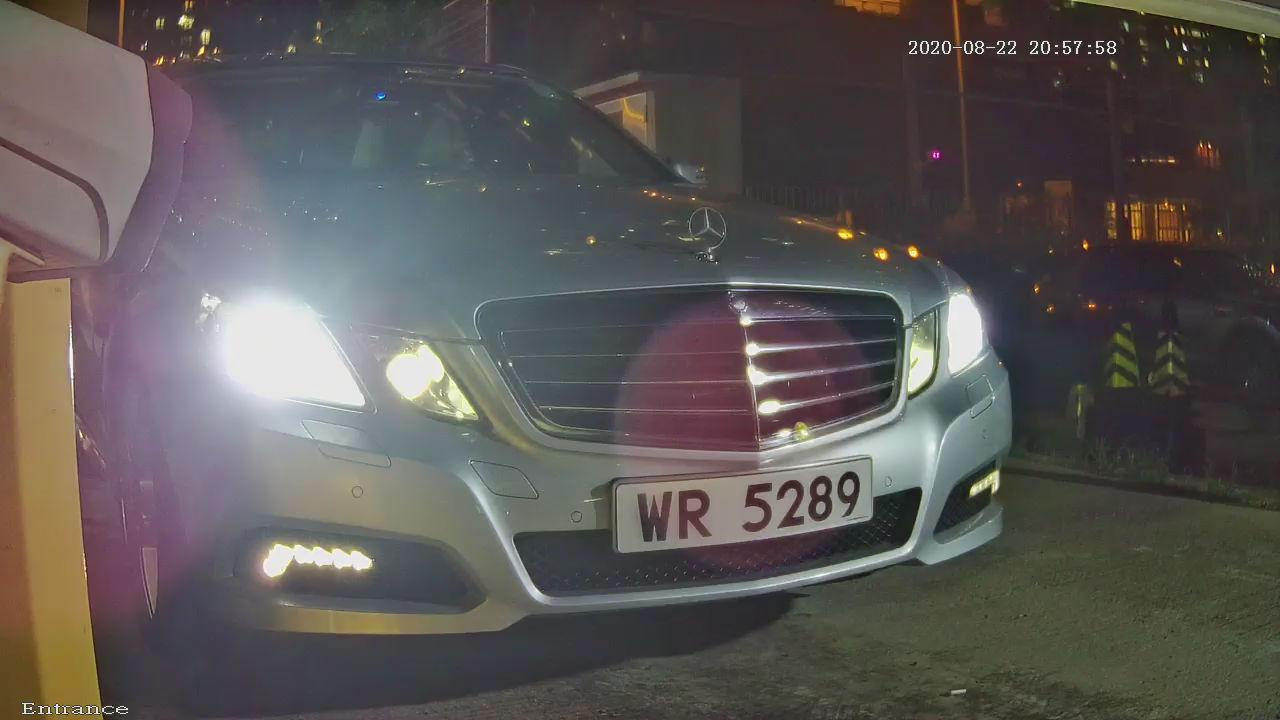Car: (35, 7, 1109, 701)
License Plate: (555, 435, 955, 612)
